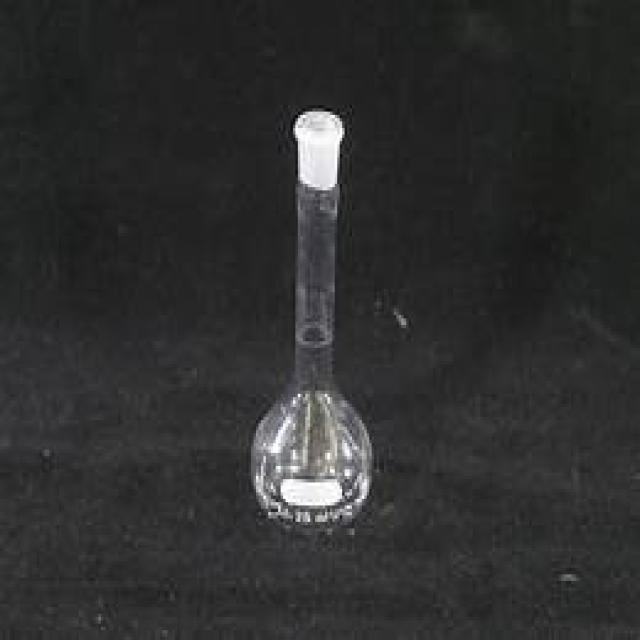Volumetric flask: (243, 79, 379, 530)
